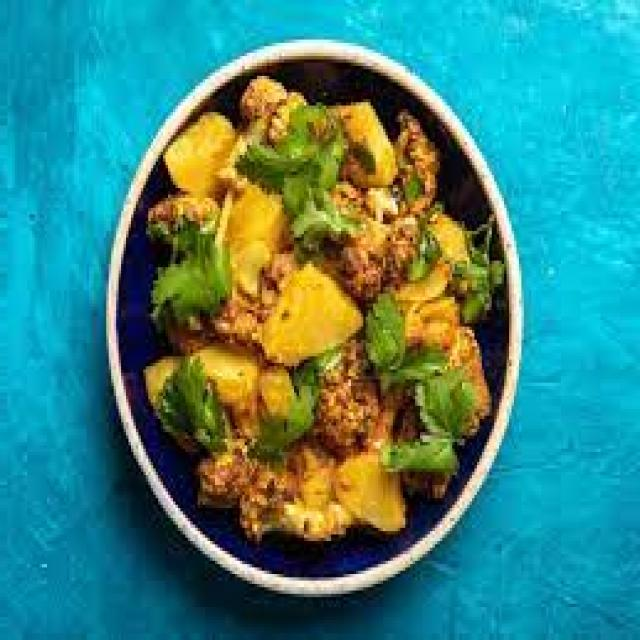Aloo Gobi: (138, 85, 484, 551)
